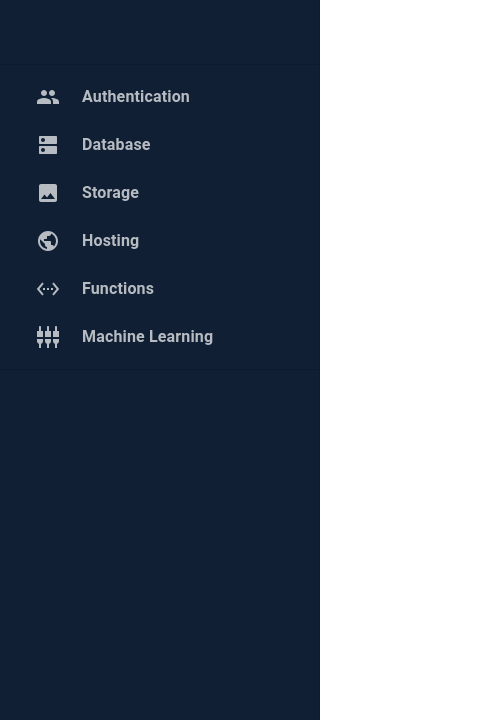
Test: Navbar component › User interaction › When a menu item is clicked, it navigates to the expected page
Step 1. Click the button "Authentication" → (113, 97), box [36,85,190,109]
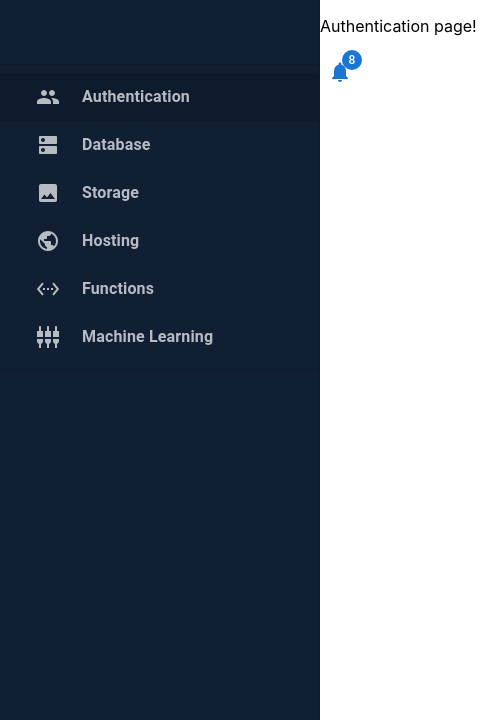
Expected: the text "Authentication page!" is shown, [320,16,477,36]
